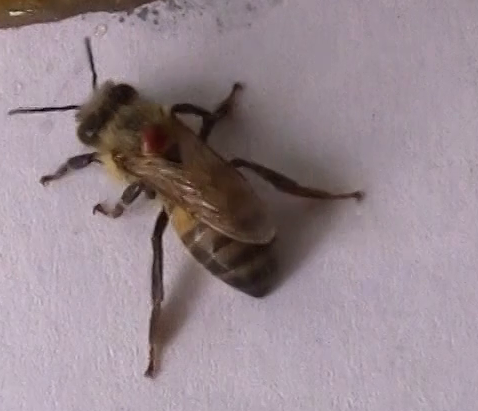Varroa destructor: (135, 121, 174, 157)
